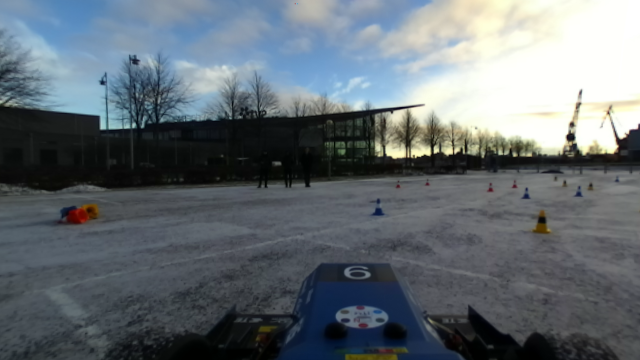blue: (370, 198, 387, 217), (572, 183, 584, 201), (520, 186, 530, 201)
yellow: (530, 207, 551, 234)
